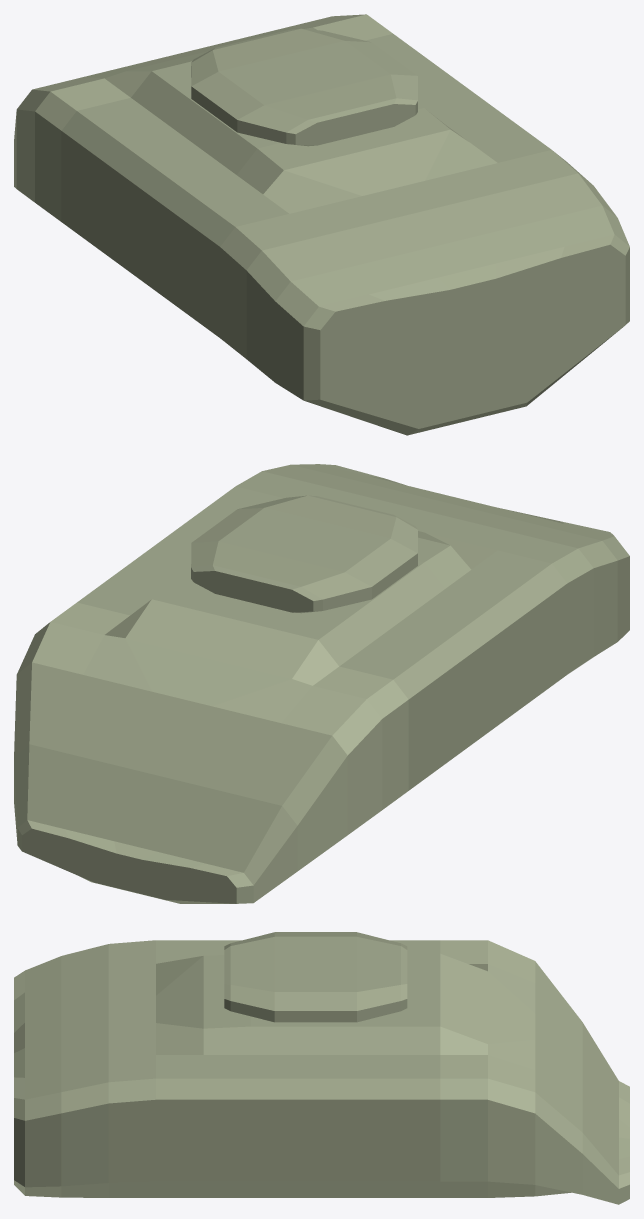
Rendered from hartmann_medium_b.glb.
3 views of the same model, one above another, from view 1: azimuth 30°, elevation 25°; view 2: azimuth 150°, elevation 25°; view 3: azimuth 270°, elevation 25° (orthographic). The views are drawn at different scales.
Parts seen in each view (by area): view 1: hartmann_medium_b; view 2: hartmann_medium_b; view 3: hartmann_medium_b.
Part boxes in pixels (x1,y1,x2,y2): hartmann_medium_b: (14, 14, 629, 435); hartmann_medium_b: (14, 464, 629, 903); hartmann_medium_b: (14, 932, 629, 1204).
Bounding box in the file's own units: 3.5 × 2.21 × 6.
